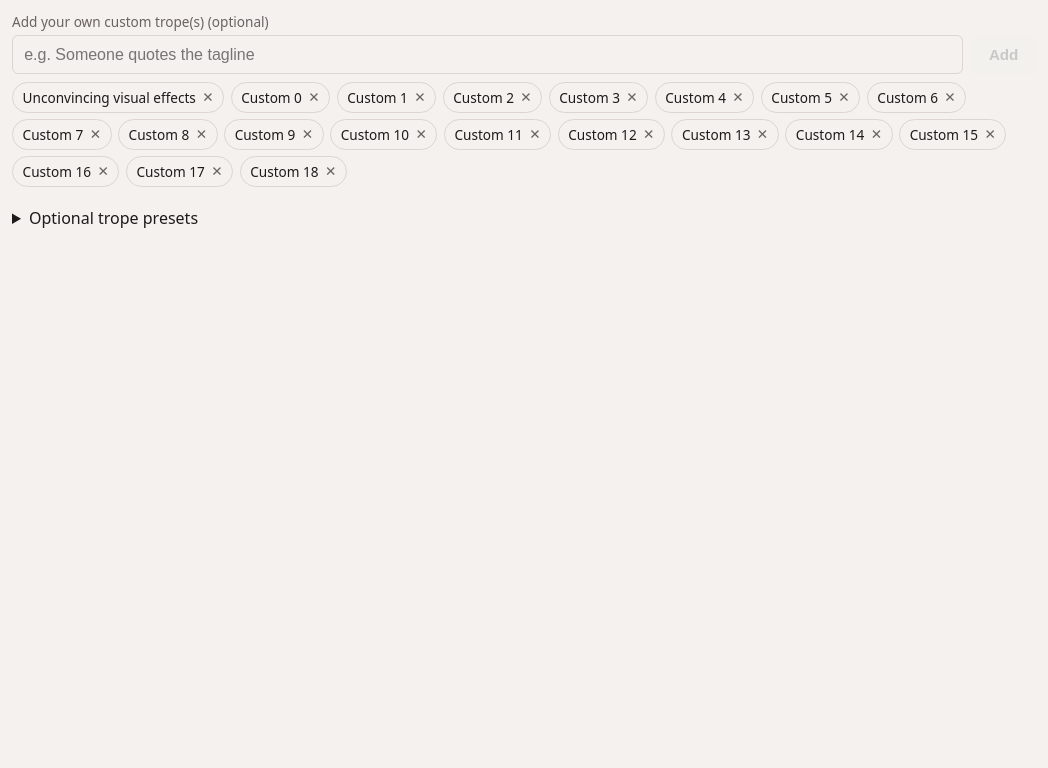
Test case: CustomTropesEditor › caps optional choices at the existing custom-trope limit while allowing removal
Click the heading "Optional trope presets": (113, 218) [29,207,198,229]
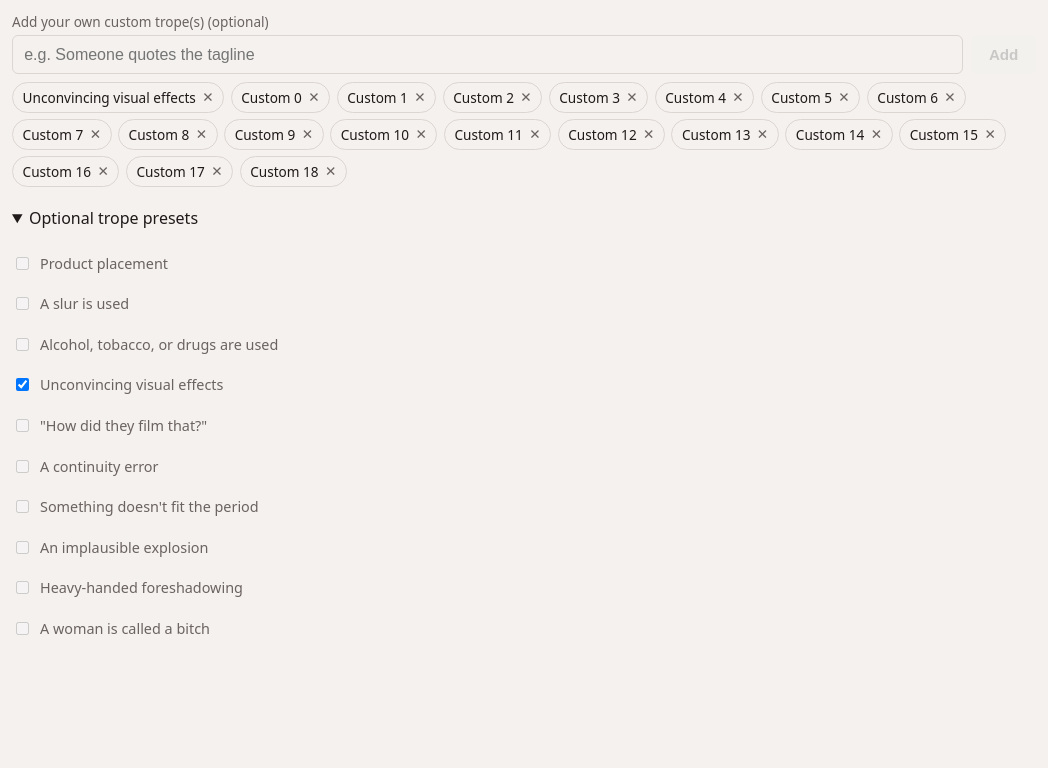
expect the checkbox labelled "A continuity error" is disabled: met, box [16,460,29,472]
expect the checkbox labelled "Unconvincing visual effects" is enabled: met, box [16,378,29,391]
